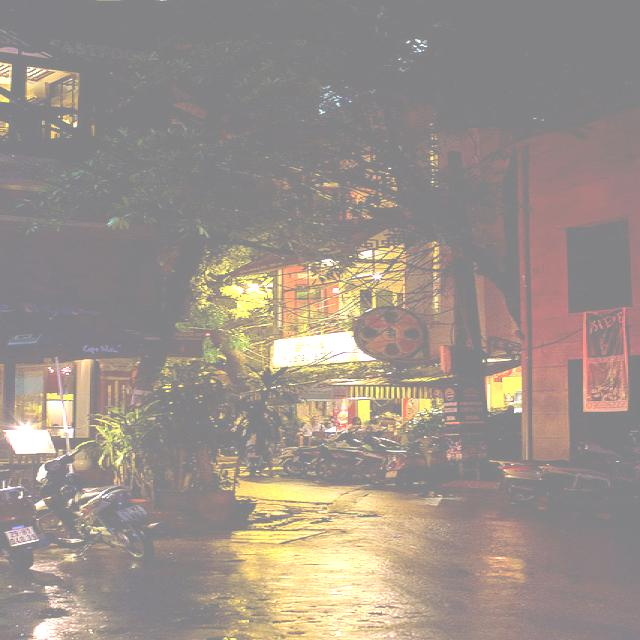Motorbike: (4, 438, 163, 583)
